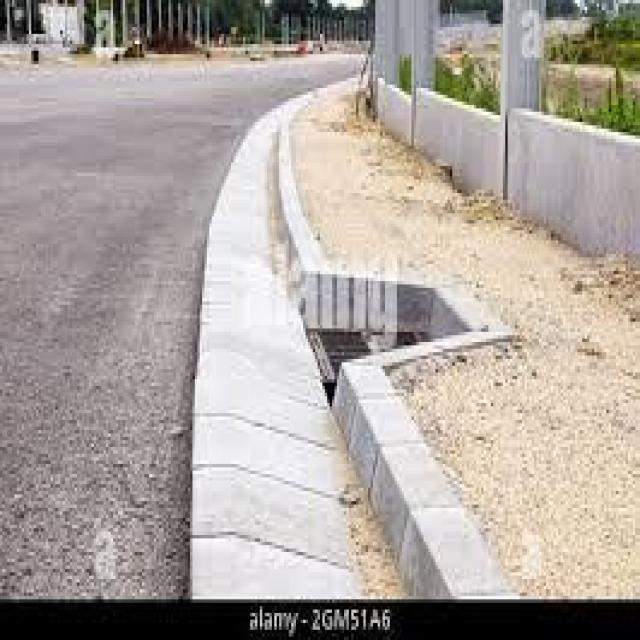curb: (184, 124, 299, 591), (382, 491, 525, 609), (336, 376, 447, 499)
